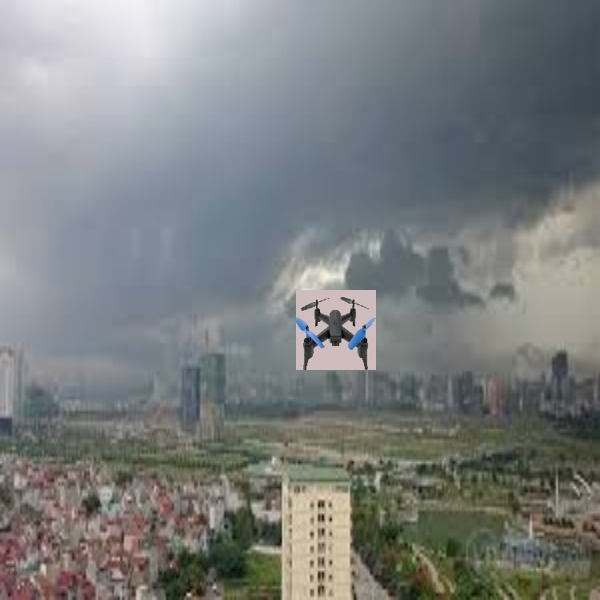drone: (295, 290, 377, 370)
